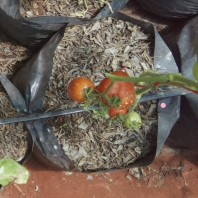tomato: (98, 71, 140, 110), (64, 74, 99, 106), (108, 105, 132, 120), (125, 113, 146, 130)
